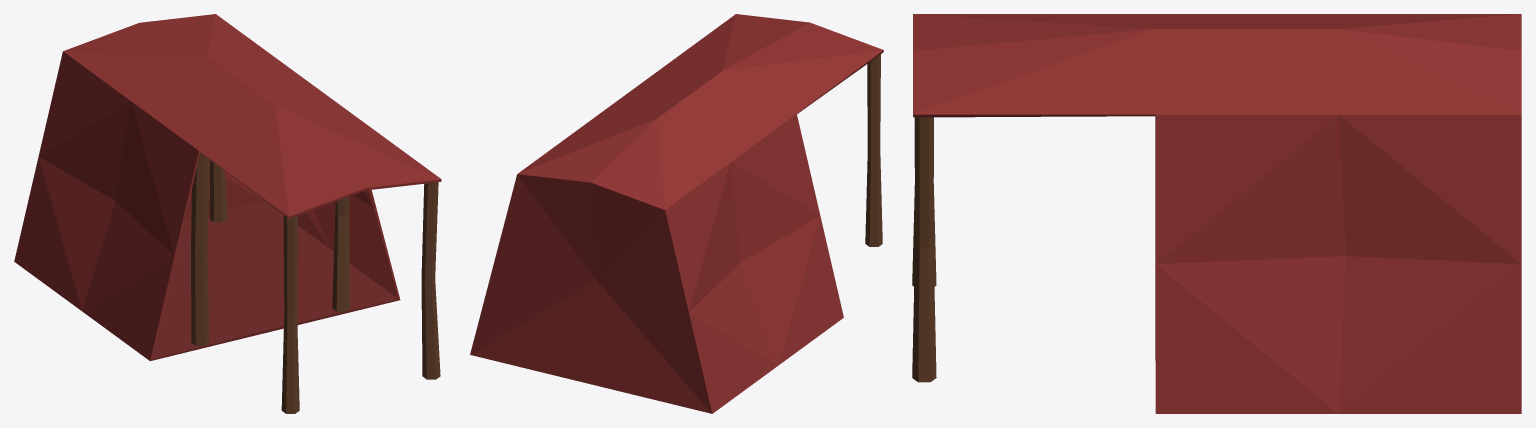
File: Tent_4_Red.fbx
The picture shows the model from 3 angles, left to right: view 1: azimuth 30°, elevation 25°; view 2: azimuth 150°, elevation 25°; view 3: azimuth 270°, elevation 25°; orthographic projection. The views are drawn at different scales.
Visible parts, largest first — view 1: Tent_4_Red_Part_2, Tent_4_Red_Part_3, Tent_4_Red_Part_1, Tent_4_Red_Part_4, Tent_4_Red_Part_8, Tent_4_Red_Part_6, Tent_4_Red_Part_7, Tent_4_Red_Part_9, Tent_4_Red_Part_11, Tent_4_Red_Part_5; view 2: Tent_4_Red_Part_5, Tent_4_Red_Part_2, Tent_4_Red_Part_3, Tent_4_Red_Part_7; view 3: Tent_4_Red_Part_4, Tent_4_Red_Part_2, Tent_4_Red_Part_6.
Part boxes in pixels (left/top/right/bottom): Tent_4_Red_Part_2: left=63, top=14, right=441, bottom=218; Tent_4_Red_Part_3: left=14, top=51, right=200, bottom=360; Tent_4_Red_Part_1: left=151, top=200, right=399, bottom=360; Tent_4_Red_Part_4: left=264, top=190, right=400, bottom=299; Tent_4_Red_Part_8: left=191, top=152, right=209, bottom=345; Tent_4_Red_Part_6: left=421, top=182, right=440, bottom=379; Tent_4_Red_Part_7: left=281, top=215, right=299, bottom=413; Tent_4_Red_Part_9: left=332, top=196, right=350, bottom=311; Tent_4_Red_Part_11: left=209, top=160, right=227, bottom=222; Tent_4_Red_Part_5: left=185, top=160, right=263, bottom=219; Tent_4_Red_Part_5: left=470, top=174, right=712, bottom=413; Tent_4_Red_Part_2: left=517, top=14, right=883, bottom=209; Tent_4_Red_Part_3: left=665, top=114, right=843, bottom=413; Tent_4_Red_Part_7: left=865, top=54, right=882, bottom=246; Tent_4_Red_Part_4: left=1155, top=114, right=1521, bottom=413; Tent_4_Red_Part_2: left=913, top=14, right=1521, bottom=117; Tent_4_Red_Part_6: left=912, top=117, right=936, bottom=382.
Size of the model in its own units: 320 by 274 by 501.
